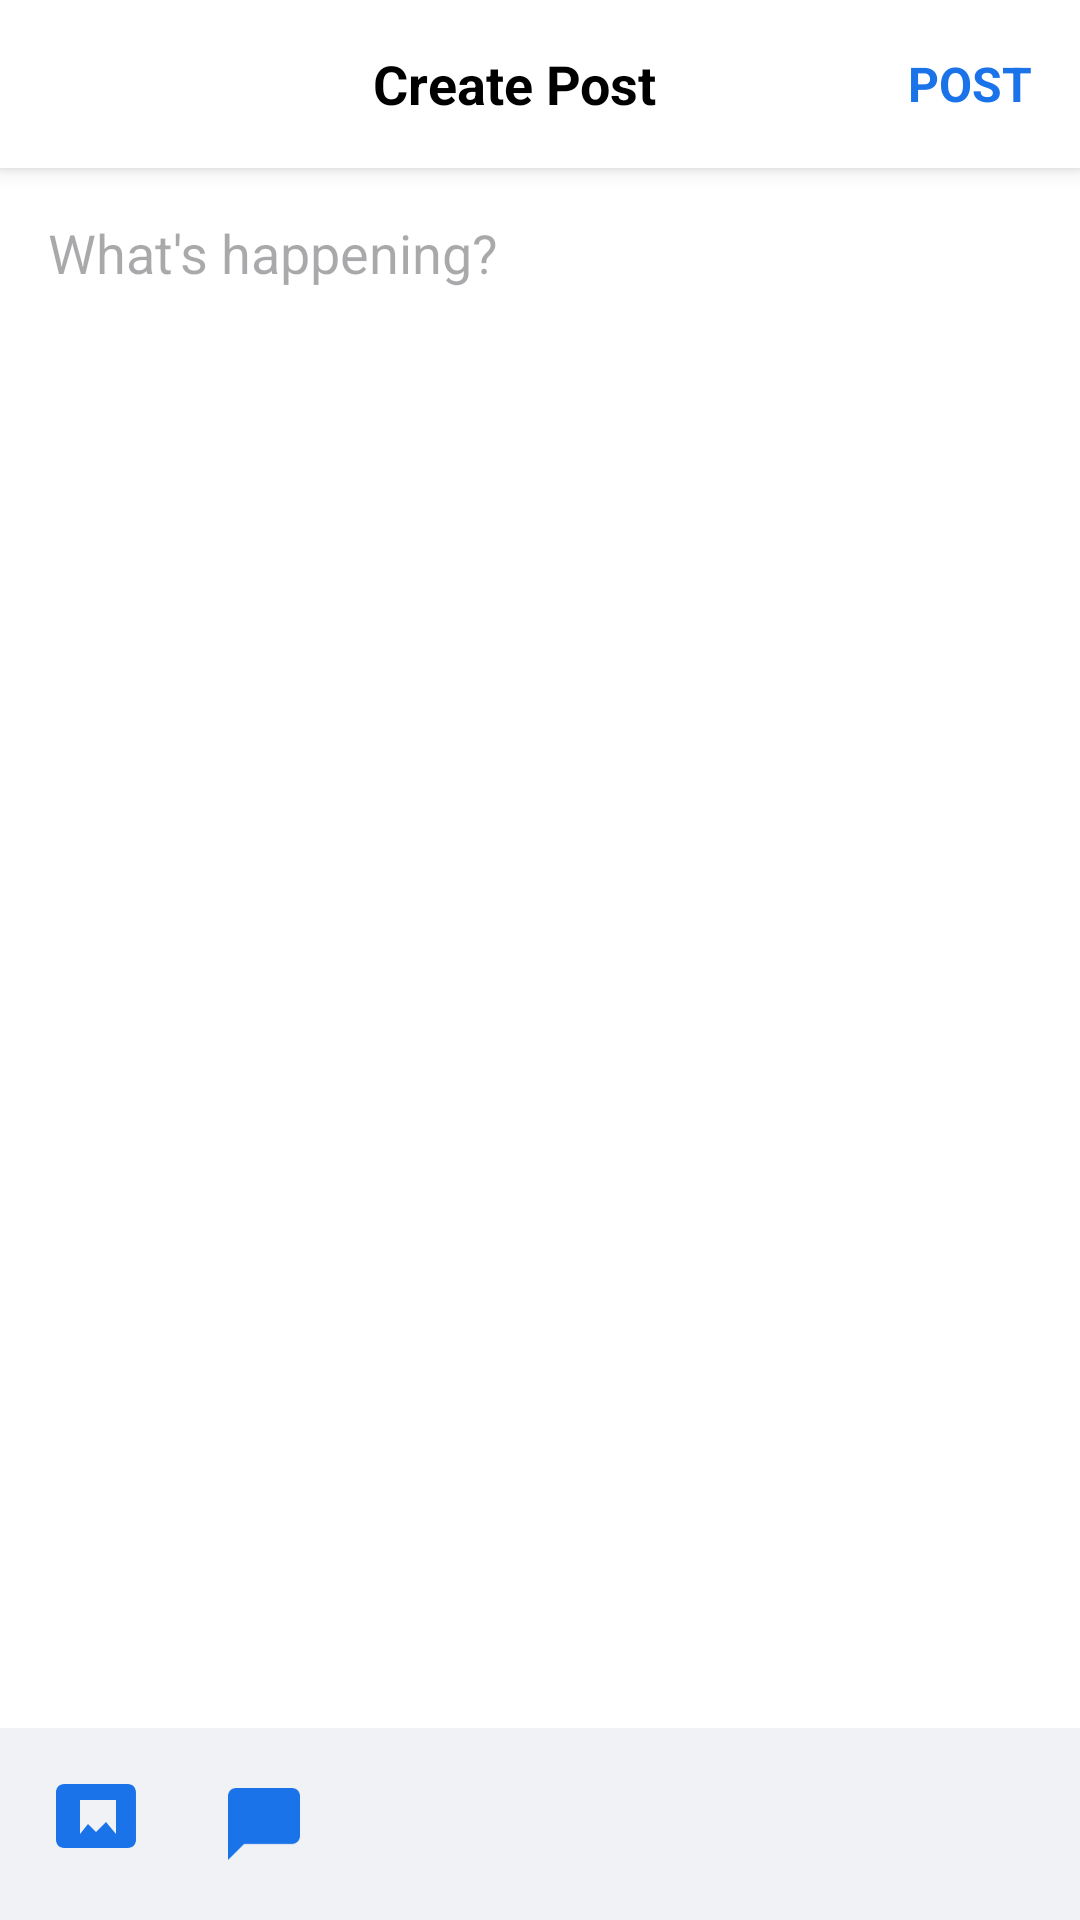

Icons on this 1080px×1920px Android screen, each with the point to tap as (x,y):
message square: (264,1824)
